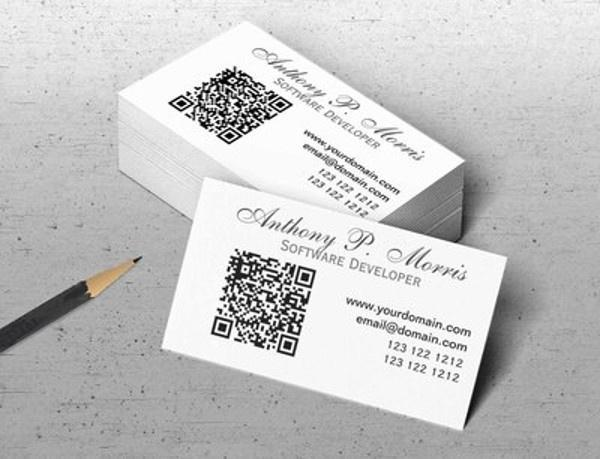Finder pattern: (213, 124, 243, 146), (274, 332, 300, 357), (208, 314, 235, 338), (164, 92, 196, 111), (293, 265, 317, 288), (266, 95, 294, 114)
